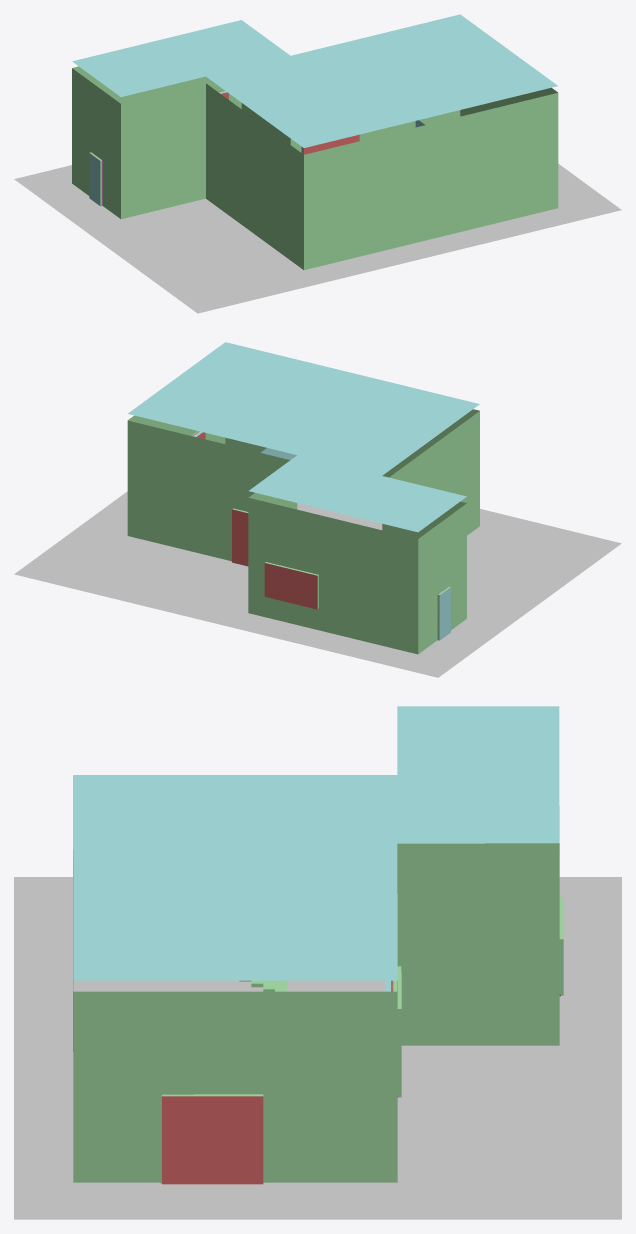
The model's file is fullEnvWebLighting.dae.
The picture shows the model from 3 angles, top to bottom: view 1: azimuth 30°, elevation 25°; view 2: azimuth 150°, elevation 25°; view 3: azimuth 270°, elevation 25°; orthographic projection. The views are drawn at different scales.
Visible parts, largest first — view 1: Wall, Slab, GroundBase, hole_003, hole_001; view 2: Wall, Slab, GroundBase, hole_002, hole_001, hole_003; view 3: Slab, Wall, GroundBase, hole, hole_001.
Part boxes in pixels (x1=…): Wall: x1=72, y1=66, x2=558, y2=270; Slab: x1=72, y1=14, x2=557, y2=147; GroundBase: x1=14, y1=164, x2=621, y2=313; hole_003: x1=89, y1=152, x2=101, y2=206; hole_001: x1=302, y1=134, x2=359, y2=154; Wall: x1=127, y1=409, x2=479, y2=654; Slab: x1=128, y1=342, x2=479, y2=532; GroundBase: x1=14, y1=491, x2=621, y2=677; hole_002: x1=264, y1=562, x2=318, y2=609; hole_001: x1=232, y1=508, x2=248, y2=566; hole_003: x1=437, y1=586, x2=450, y2=640; Slab: x1=73, y1=706, x2=559, y2=980; Wall: x1=73, y1=843, x2=559, y2=1182; GroundBase: x1=14, y1=877, x2=621, y2=1219; hole: x1=162, y1=1094, x2=263, y2=1184; hole_001: x1=385, y1=966, x2=401, y2=1097.
Bounding box in the file's own units: 20 × 15 × 5.56.
